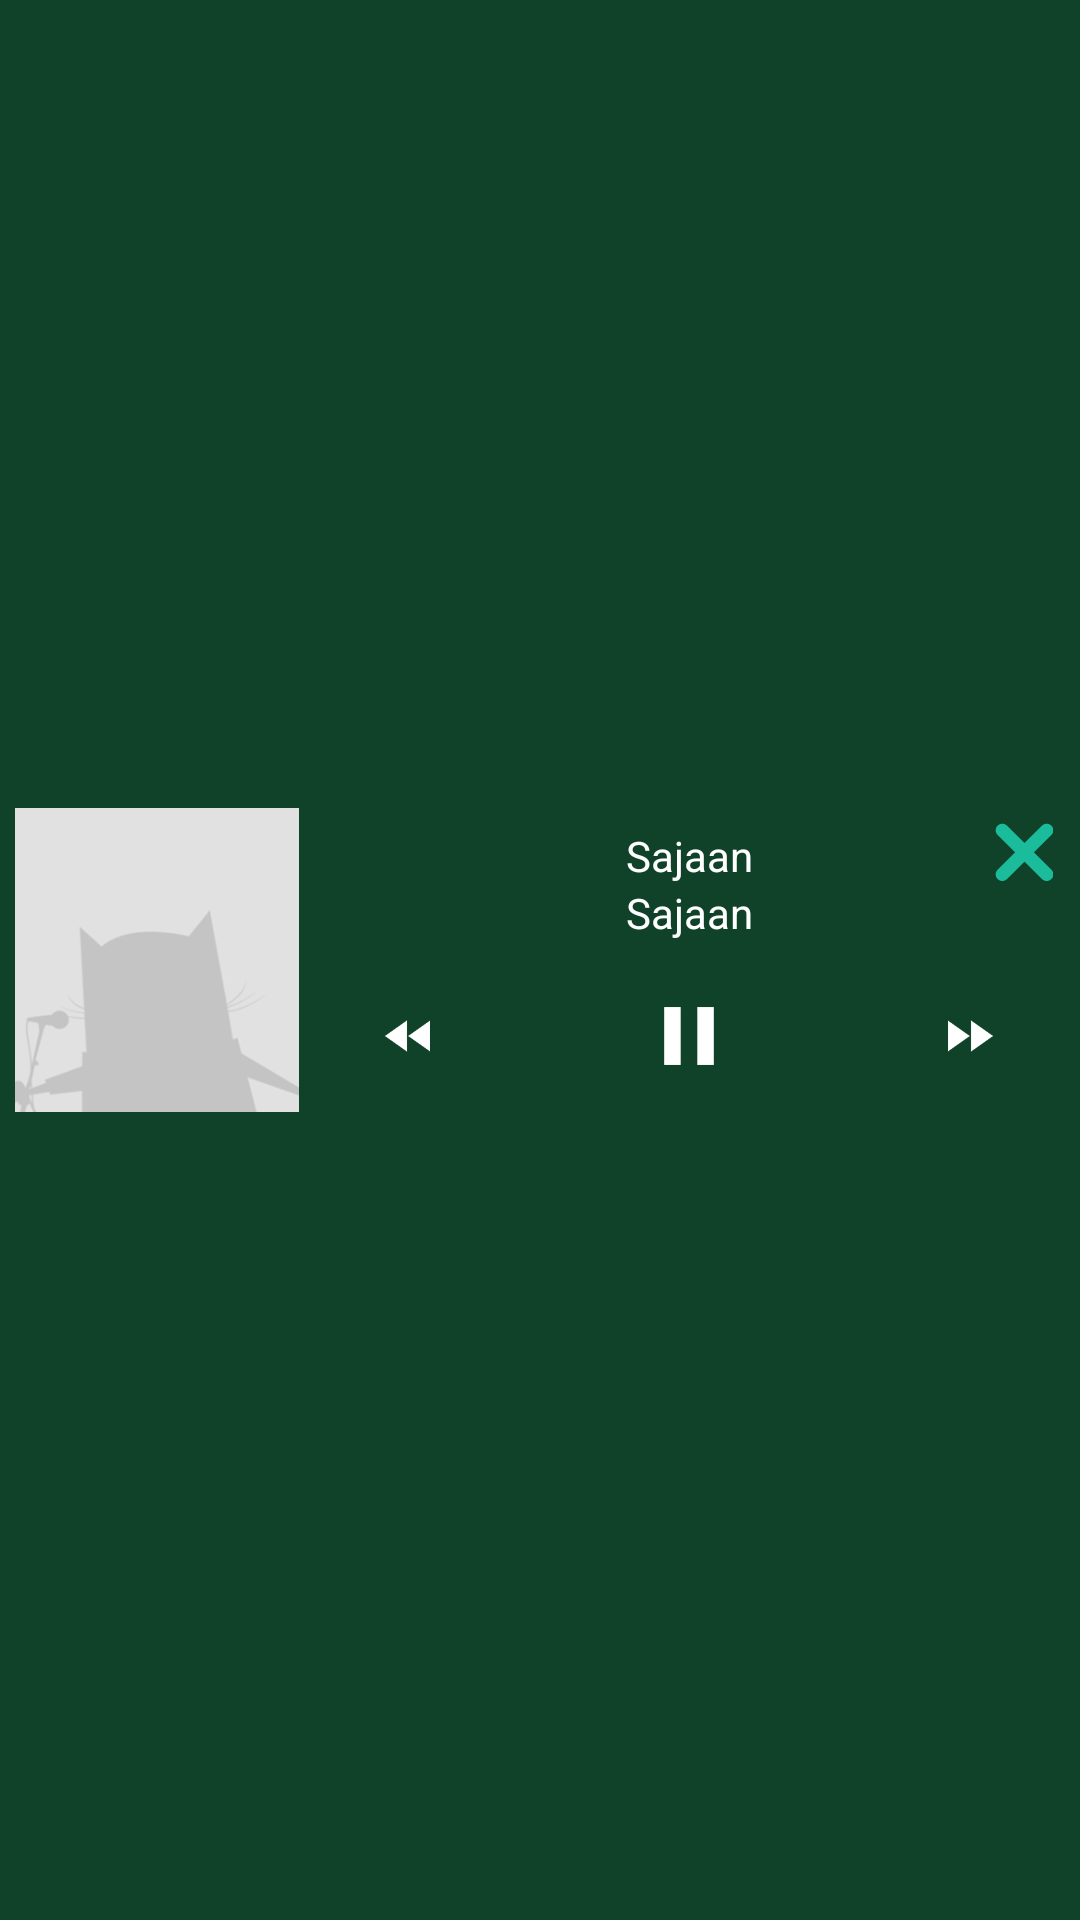

Icons on this 1080 x 1920 Android screen, each with the point to tap as (x,y):
cross: (1024,852)
fast forward: (970,1036)
fast rewind: (407,1036)
pause: (689,1036)
